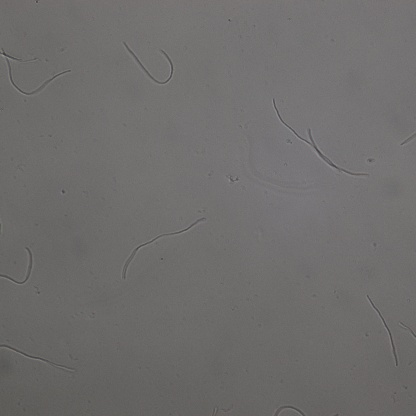Sensitive: (274, 99, 369, 177), (121, 218, 203, 279), (1, 49, 71, 95), (367, 296, 398, 367), (124, 41, 174, 85), (1, 343, 73, 372), (1, 247, 33, 285)
